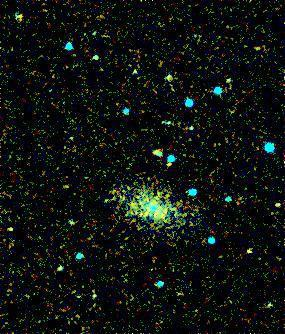star: (151, 149, 181, 179)
